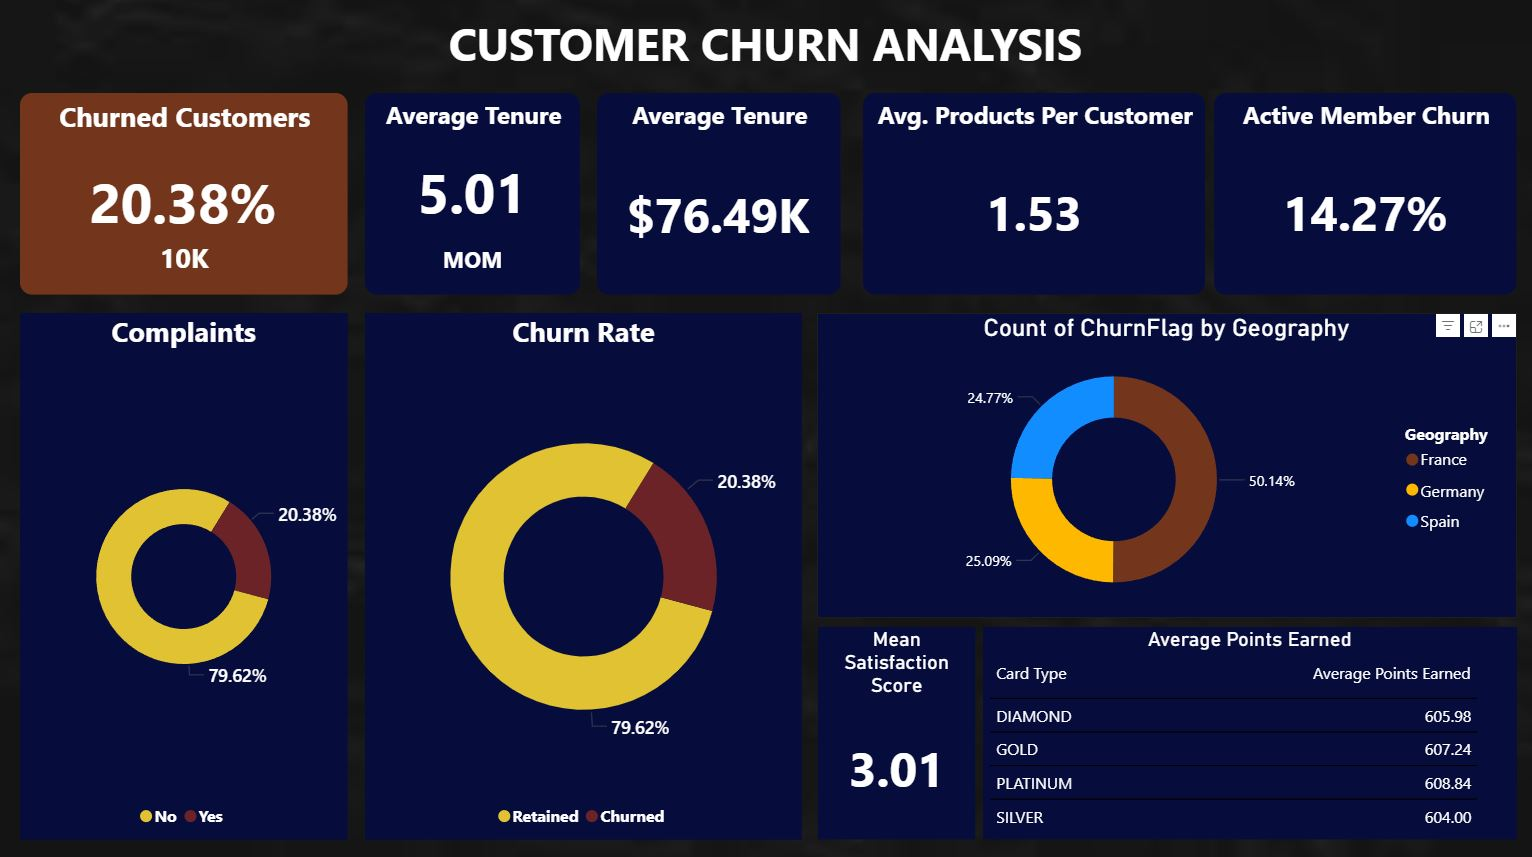

What the dashboard file says about the page in this screenshot:
{"tool":"powerbi","page":{"name":"Page 1","canvas":[1280,720],"ordinal":0},"visuals":[{"type":"cardVisual","title":"Churned Customers","fields":{"Data":["Customer-Churn-Records.ExitRate"]},"box":[18.6,80.7,272.9,167.9],"z":0},{"type":"textbox","box":[13.6,9.3,1252.1,61.4],"z":1000},{"type":"card","fields":{"Values":["Customer-Churn-Records.TotalCustomer"]},"box":[90.7,205,128.6,29.3],"z":2000},{"type":"cardVisual","title":"Average Tenure","fields":{"Data":["Avg(Customer-Churn-Records.Tenure)"]},"box":[305.7,80.7,179.3,167.9],"z":3000},{"type":"textbox","box":[360,201.4,71.4,36.4],"z":4000},{"type":"cardVisual","title":"Average Tenure","fields":{"Data":["Avg(Customer-Churn-Records.Balance)"]},"box":[499.3,80.7,202.9,167.9],"z":5000},{"type":"cardVisual","title":"Avg. Products Per Customer","fields":{"Data":["Avg(Customer-Churn-Records.NumOfProducts)"]},"box":[720.7,80.7,285,167.9],"z":6000},{"type":"cardVisual","title":"Active Member Churn","fields":{"Data":["Customer-Churn-Records.ActiveMemberChurnRate"]},"box":[1013.6,80.7,252.1,167.9],"z":7000},{"type":"donutChart","title":"Complaints","fields":{"Y":["CountNonNull(Customer-Churn-Records.CustomerId)"],"Category":["Customer-Churn-Records.ChurnFlag"]},"box":[18.6,264.3,272.9,438.6],"z":8000},{"type":"donutChart","title":"Churn Rate","fields":{"Category":["Customer-Churn-Records.ChurnStatus"],"Y":["CountNonNull(Customer-Churn-Records.CustomerId)"]},"box":[305.7,264.3,364.3,438.6],"z":9000},{"type":"donutChart","fields":{"Category":["Customer-Churn-Records.Geography"],"Y":["Customer-Churn-Records.Churned"]},"box":[682.9,264.3,582.9,254.3],"z":10000},{"type":"tableEx","title":"Average Points Earned","fields":{"Values":["Customer-Churn-Records.Card Type","Avg(Customer-Churn-Records.Point Earned)"]},"box":[820.7,526,444.7,177.3],"z":11000},{"type":"card","title":"Mean Satisfaction Score","fields":{"Values":["Customer-Churn-Records.MeanSatisfactionScore"]},"box":[683.3,526,131.3,177.3],"z":12000}]}

Visuals, with their boxes in screenshot pixels (x1, y1, x2, y2), scaled from the page's 1280x720 canvas onto the 1532x857 screenshot:
"Churned Customers" cardVisual: region(22, 96, 349, 296)
textbox: region(16, 11, 1515, 84)
card - Customer-Churn-Records.TotalCustomer: region(109, 244, 262, 279)
"Average Tenure" cardVisual: region(366, 96, 580, 296)
textbox: region(431, 240, 516, 283)
"Average Tenure" cardVisual: region(598, 96, 840, 296)
"Avg. Products Per Customer" cardVisual: region(863, 96, 1204, 296)
"Active Member Churn" cardVisual: region(1213, 96, 1515, 296)
"Complaints" donutChart: region(22, 315, 349, 837)
"Churn Rate" donutChart: region(366, 315, 802, 837)
donutChart - Customer-Churn-Records.Geography x Customer-Churn-Records.Churned: region(817, 315, 1515, 617)
"Average Points Earned" tableEx: region(982, 626, 1515, 837)
"Mean Satisfaction Score" card: region(818, 626, 975, 837)
